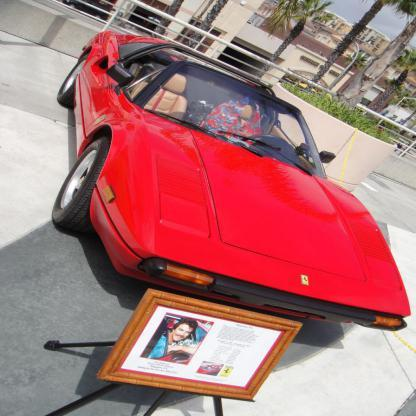car: (52, 30, 413, 330)
